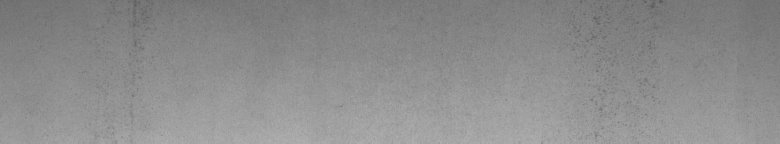ib: (586, 4, 655, 95)
